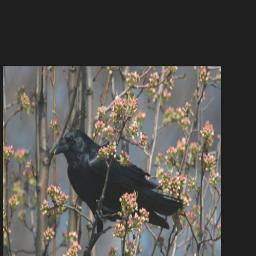Crow: (49, 125, 181, 256)
